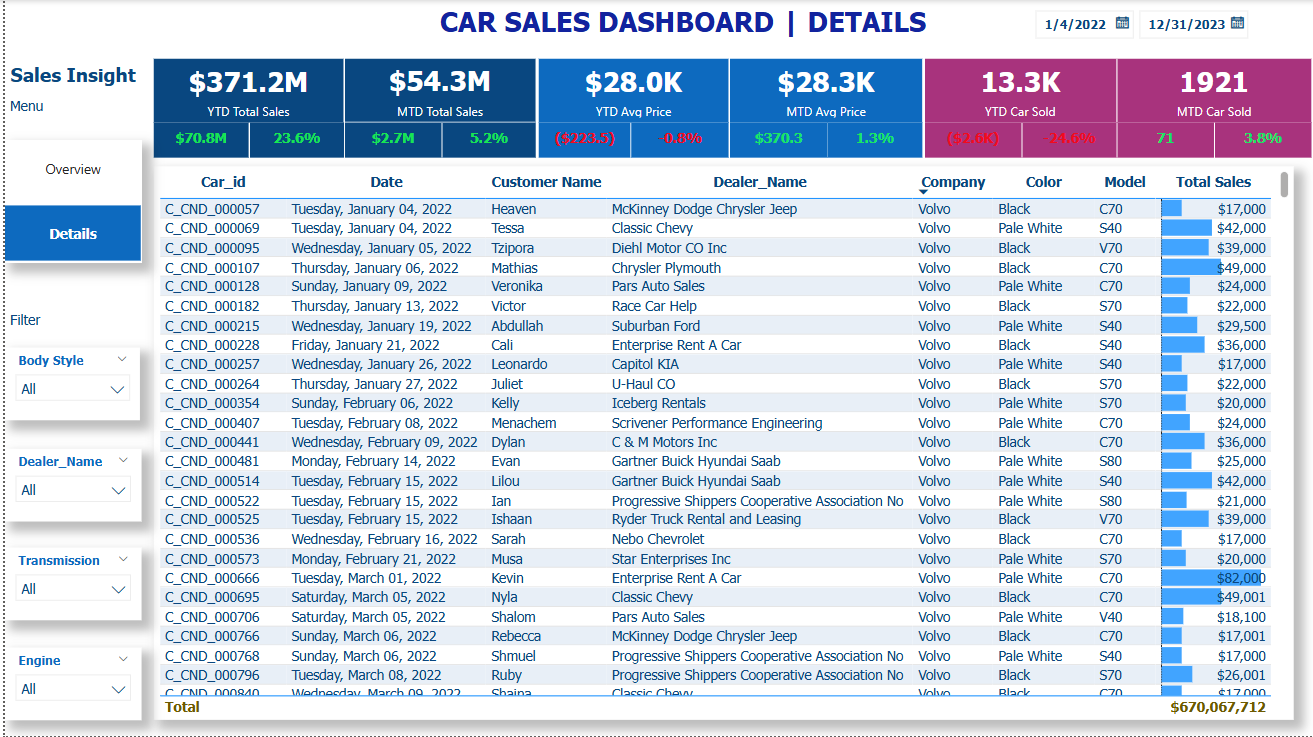

This screenshot's page, from the dashboard's own definition file:
{"tool":"powerbi","page":{"name":"Details","canvas":[1280,720],"ordinal":1},"visuals":[{"type":"textbox","box":[371.7,0,583.3,57.5],"z":0},{"type":"card","title":"YTD Total Sales","fields":{"Values":["car_data.YTD Total Sales"]},"box":[145.5,57.5,185.9,62.4],"z":1000},{"type":"card","fields":{"Values":["car_data.Sale Difference"]},"box":[145.5,119.8,92.9,34.2],"z":2000},{"type":"card","fields":{"Values":["car_data.YOY Sales Growth"]},"box":[239.7,119.8,91.7,34.2],"z":3000},{"type":"card","fields":{"Values":["car_data.MTD sales diff"]},"box":[332.1,119.7,94.1,34.2],"z":4000},{"type":"card","fields":{"Values":["car_data.MOM Sales Growth"]},"box":[427.6,119.7,91.2,34.2],"z":5000},{"type":"card","fields":{"Values":["car_data.Avg price diff"]},"box":[521.7,119.7,89.8,34.2],"z":6000},{"type":"card","fields":{"Values":["car_data.YOY Avg Price"]},"box":[612.9,119.7,95.5,34.2],"z":7000},{"type":"card","title":"YTD Total Sales","fields":{"Values":["car_data.MTD Total Sales"]},"box":[332.3,57.6,186.4,61.3],"z":8000},{"type":"card","title":"YTD Total Sales","fields":{"Values":["car_data.YTD Avg Price"]},"box":[522.1,57.5,185.9,62.4],"z":9000},{"type":"card","title":"YTD Total Sales","fields":{"Values":["car_data.MTD Avg Price"]},"box":[709.2,57.5,188.3,62.4],"z":10000},{"type":"card","title":"YTD Total Sales","fields":{"Values":["car_data.YTD Car Sold"]},"box":[900,57.5,187.1,62.4],"z":11000},{"type":"card","title":"YTD Total Sales","fields":{"Values":["car_data.MTD Car Sold"]},"box":[1088.3,57.5,189.5,62.4],"z":12000},{"type":"card","fields":{"Values":["car_data.Diff MTD Avg Price"]},"box":[709.2,119.8,95.4,34.2],"z":13000},{"type":"card","fields":{"Values":["car_data.MOM Avg Price"]},"box":[804.6,119.8,92.9,34.2],"z":14000},{"type":"card","fields":{"Values":["car_data.Diff YTD Car Sold"]},"box":[900,119.8,94.2,34.2],"z":15000},{"type":"card","fields":{"Values":["car_data.YOY Car Sold"]},"box":[995.4,119.8,91.7,34.2],"z":16000},{"type":"card","fields":{"Values":["car_data.Diff MTD Car Sold"]},"box":[1088.3,119.8,94.2,34.2],"z":17000},{"type":"card","fields":{"Values":["car_data.MOM Car Sold"]},"box":[1183.7,119.8,94.2,34.2],"z":18000},{"type":"tableEx","title":"Company-wise Sales Trend","fields":{"Values":["car_data.Car_id","car_data.Date","car_data.Customer Name","car_data.Dealer_Name","car_data.Company","car_data.Color","car_data.Model","car_data.Total Sales"]},"box":[145.5,162.6,1115.2,541.7],"z":19000},{"type":"slicer","fields":{"Values":["calendar.Date_format"]},"box":[995.4,0,231.1,40.4],"z":20000},{"type":"slicer","fields":{"Values":["car_data.Body Style"]},"box":[0,339.9,132.1,70.9],"z":21000},{"type":"slicer","fields":{"Values":["car_data.Dealer_Name"]},"box":[0,439,133.3,70.9],"z":22000},{"type":"slicer","fields":{"Values":["car_data.Transmission"]},"box":[0,535.6,133.3,70.9],"z":23000},{"type":"slicer","fields":{"Values":["car_data.Engine"]},"box":[0,633.4,133.3,70.9],"z":24000},{"type":"textbox","box":[0,298.4,132.1,29.3],"z":25000},{"type":"pageNavigator","box":[0,137,133.3,119.8],"z":26000},{"type":"textbox","box":[0,57.5,133.3,50.1],"z":26001},{"type":"textbox","box":[0,89.3,132.1,33],"z":26002}]}

Visuals, with their boxes in screenshot pixels (x1, y1, x2, y2), scaled from the page's 1280x720 canvas onto the 1313x737 screenshot:
textbox: 381/0/980/59
"YTD Total Sales" card: 149/59/340/123
card - car_data.Sale Difference: 149/123/245/158
card - car_data.YOY Sales Growth: 246/123/340/158
card - car_data.MTD sales diff: 341/123/437/158
card - car_data.MOM Sales Growth: 439/123/532/158
card - car_data.Avg price diff: 535/123/627/158
card - car_data.YOY Avg Price: 629/123/727/158
"YTD Total Sales" card: 341/59/532/122
"YTD Total Sales" card: 536/59/726/123
"YTD Total Sales" card: 727/59/921/123
"YTD Total Sales" card: 923/59/1115/123
"YTD Total Sales" card: 1116/59/1311/123
card - car_data.Diff MTD Avg Price: 727/123/825/158
card - car_data.MOM Avg Price: 825/123/921/158
card - car_data.Diff YTD Car Sold: 923/123/1020/158
card - car_data.YOY Car Sold: 1021/123/1115/158
card - car_data.Diff MTD Car Sold: 1116/123/1213/158
card - car_data.MOM Car Sold: 1214/123/1311/158
"Company-wise Sales Trend" tableEx: 149/166/1293/721
slicer - calendar.Date_format: 1021/0/1258/41
slicer - car_data.Body Style: 0/348/136/420
slicer - car_data.Dealer_Name: 0/449/137/522
slicer - car_data.Transmission: 0/548/137/621
slicer - car_data.Engine: 0/648/137/721
textbox: 0/305/136/335
pageNavigator: 0/140/137/263
textbox: 0/59/137/110
textbox: 0/91/136/125
